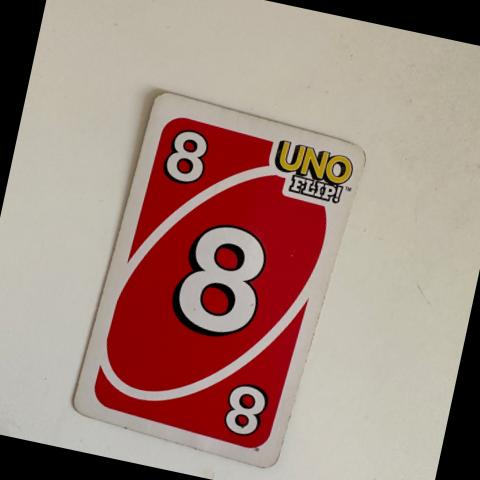lred-8: (144, 102, 230, 205)
